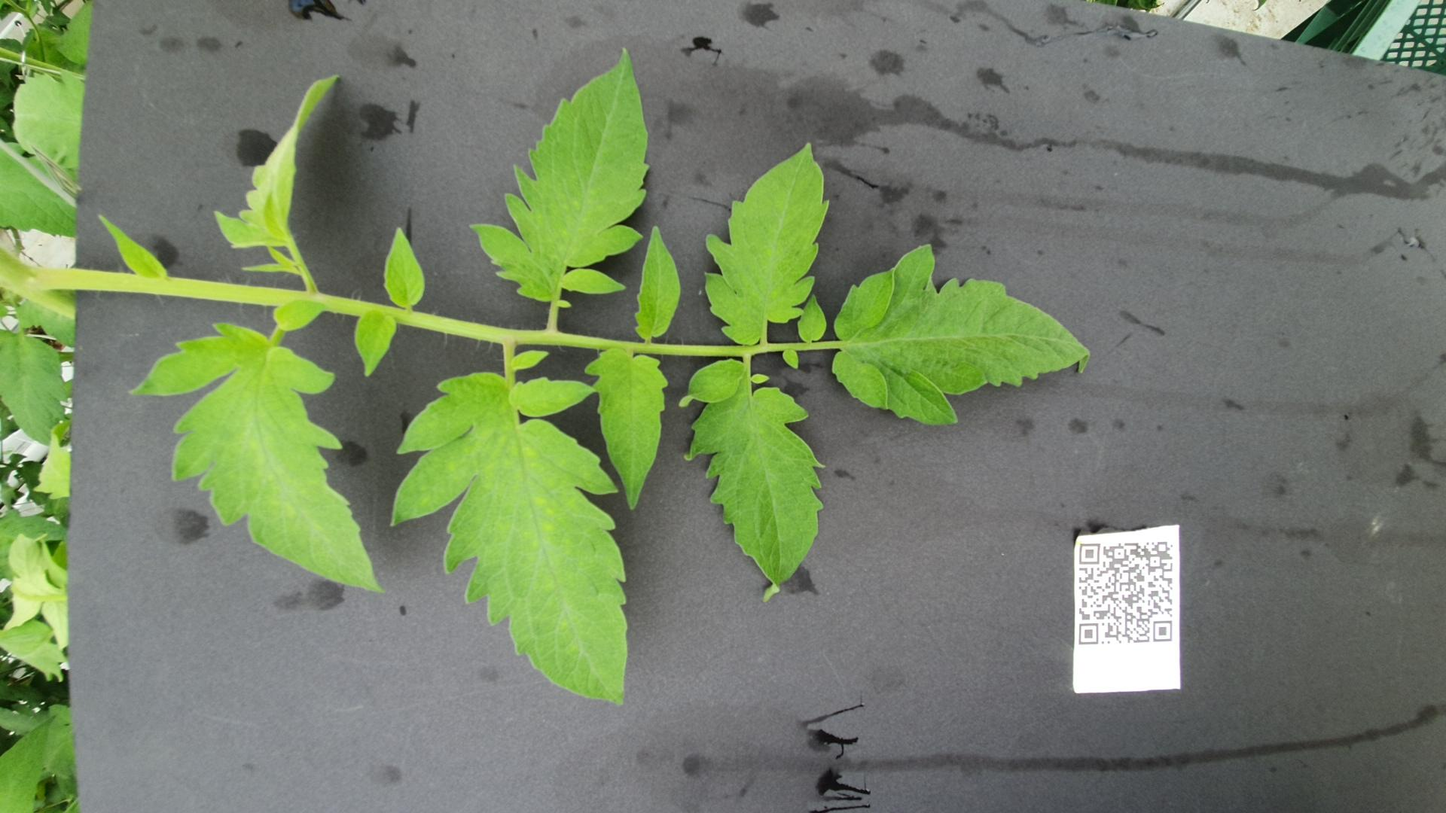Healthy: (195, 219, 785, 354), (390, 71, 873, 215), (690, 468, 1015, 613), (900, 264, 1362, 366), (375, 382, 809, 465), (829, 396, 1193, 467), (1000, 117, 1317, 193), (537, 328, 825, 376), (652, 0, 857, 36), (844, 357, 1044, 383), (897, 216, 1043, 240), (774, 199, 894, 224), (858, 152, 916, 185)
